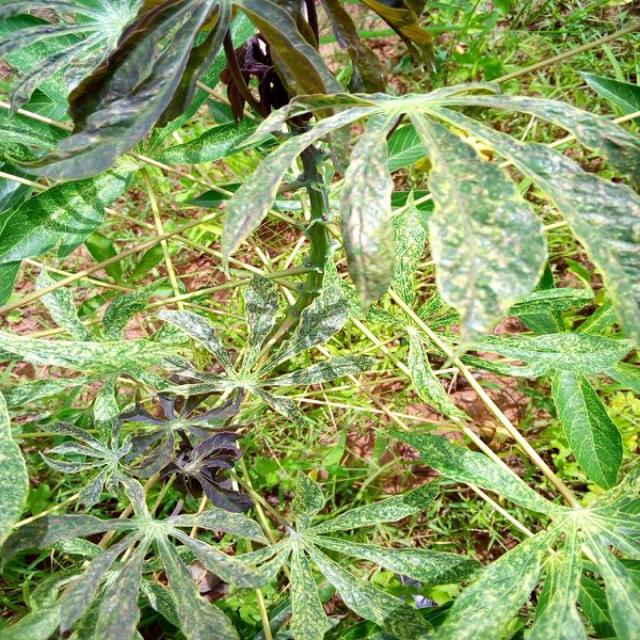cassava leaf: (1, 1, 638, 638), (408, 105, 550, 344), (338, 130, 396, 312)
